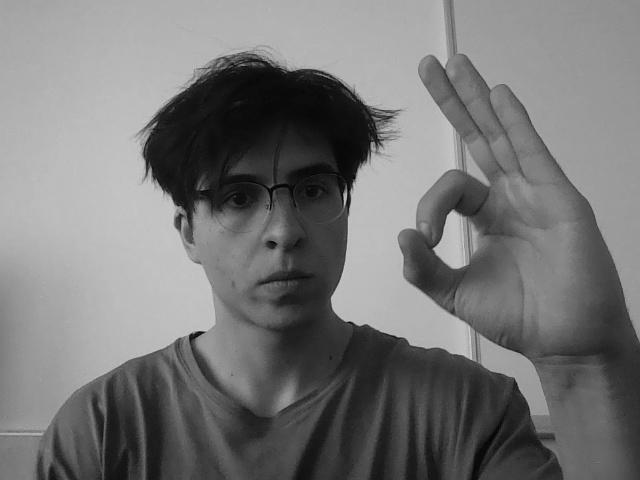OK: (394, 56, 634, 354)
